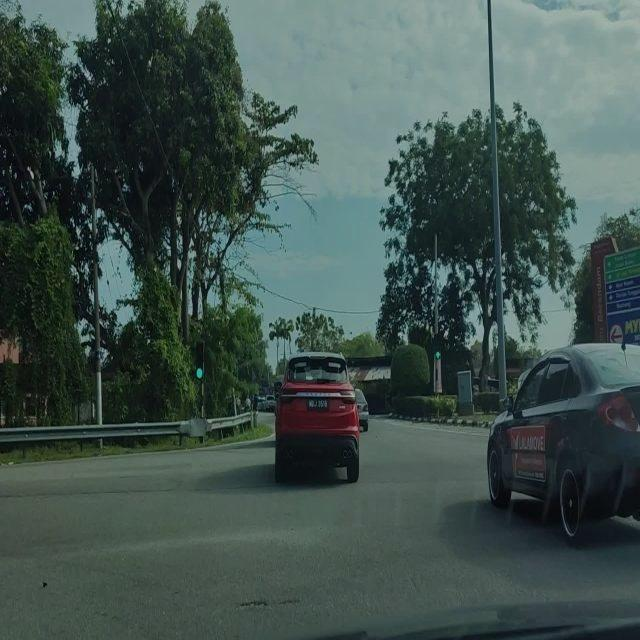Green: (194, 340, 203, 380), (434, 334, 440, 359)
